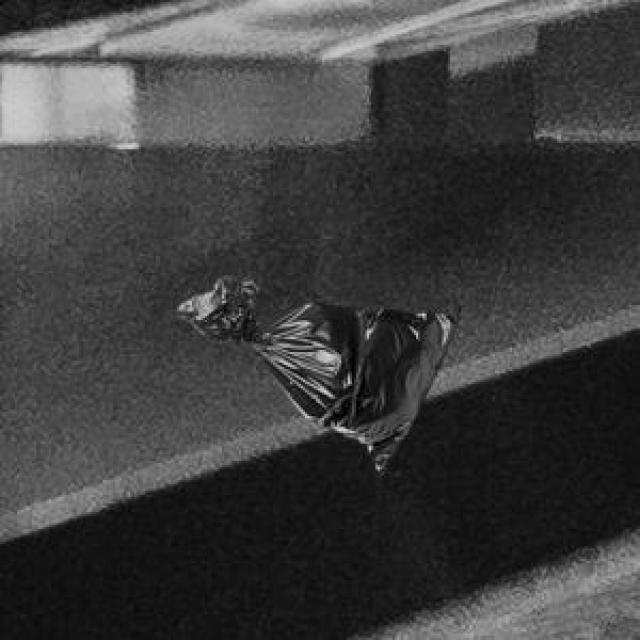miscellaneous trash: (175, 273, 457, 474)
